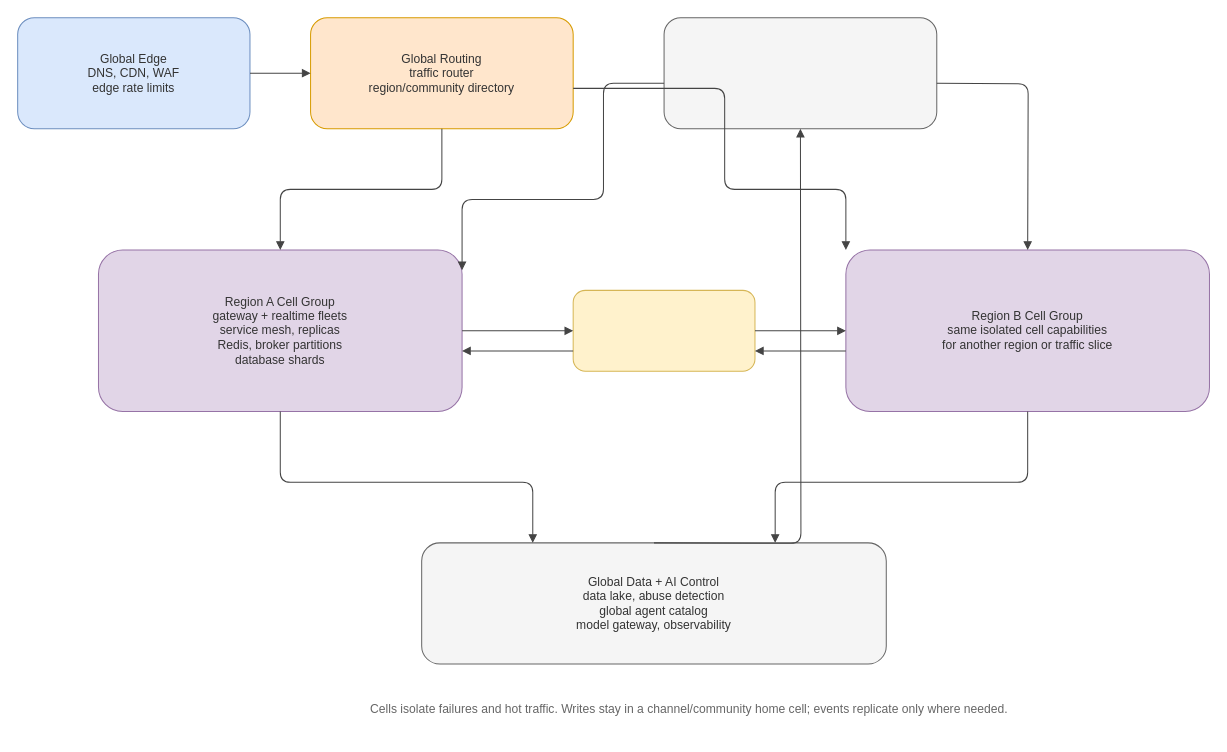
Image size: 1227x752. Some labels were removed from this diagram. The centre of each missing label's shape, as x and y in pixels:
Cross-Region Event Replicator: the point at 663,330
Global Control Plane config, schema registry identity directory: the point at 800,73
